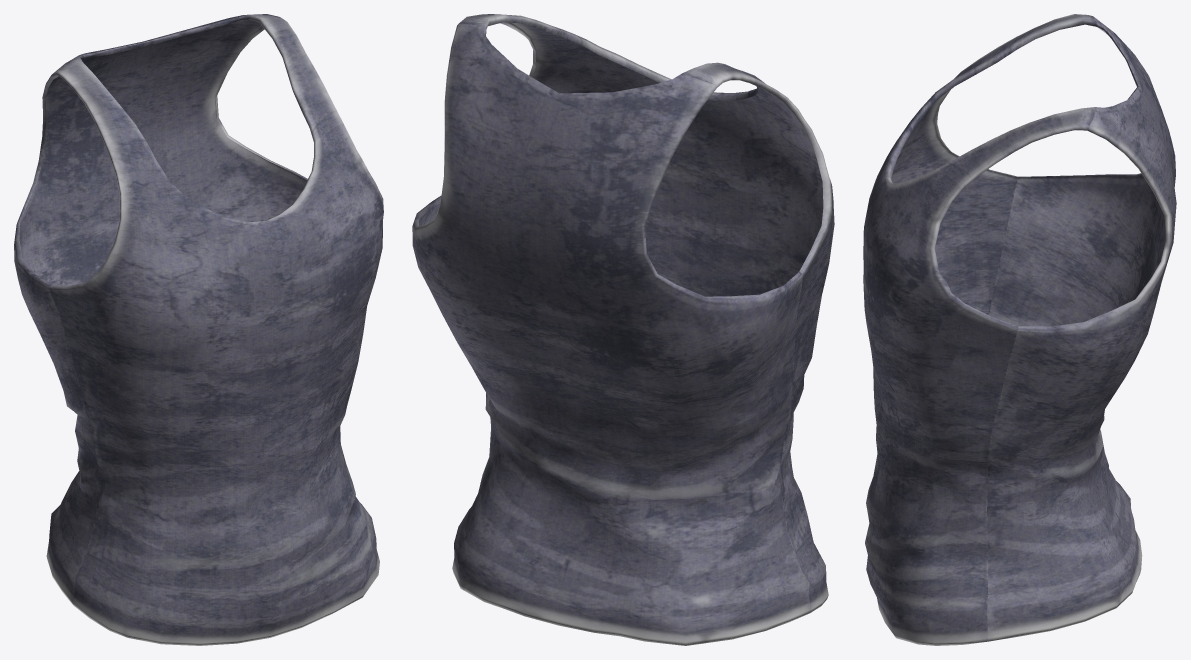
Rendered from manShirt1.obj.
The picture shows the model from 3 angles, left to right: view 1: azimuth 30°, elevation 25°; view 2: azimuth 150°, elevation 25°; view 3: azimuth 270°, elevation 25°; orthographic projection. The views are drawn at different scales.
Parts seen in each view (by area): view 1: Tank top; view 2: Tank top; view 3: Tank top.
Boxes of the visible parts, bbox=[...] form: Tank top: bbox=[14, 14, 383, 645]; Tank top: bbox=[412, 14, 834, 645]; Tank top: bbox=[863, 14, 1176, 645].
Size of the model in its own units: 36.07 by 58.47 by 31.02.
